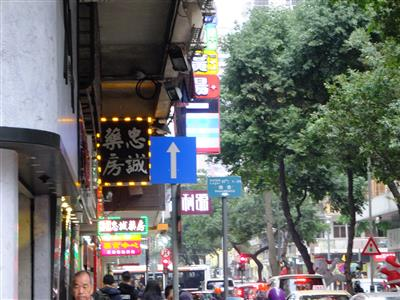oneway: (143, 132, 203, 189)
